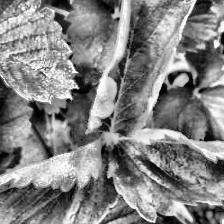Powdery Mildew Leaf: (86, 0, 197, 137), (107, 128, 224, 223), (0, 137, 121, 223)
